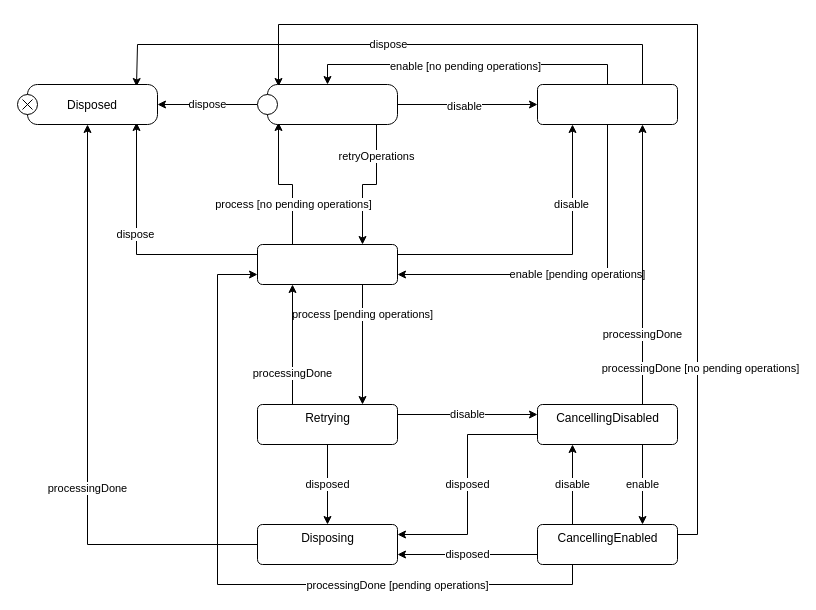
The diagram is 816 pixels wide and 610 high, and some of its shapes have lost their labels. The centre of each missing label's shape, as x and y in pixels:
"Disabled" belongs at (x=607, y=104).
"Idle" belongs at (x=327, y=104).
"PendingRetry" belongs at (x=327, y=264).
